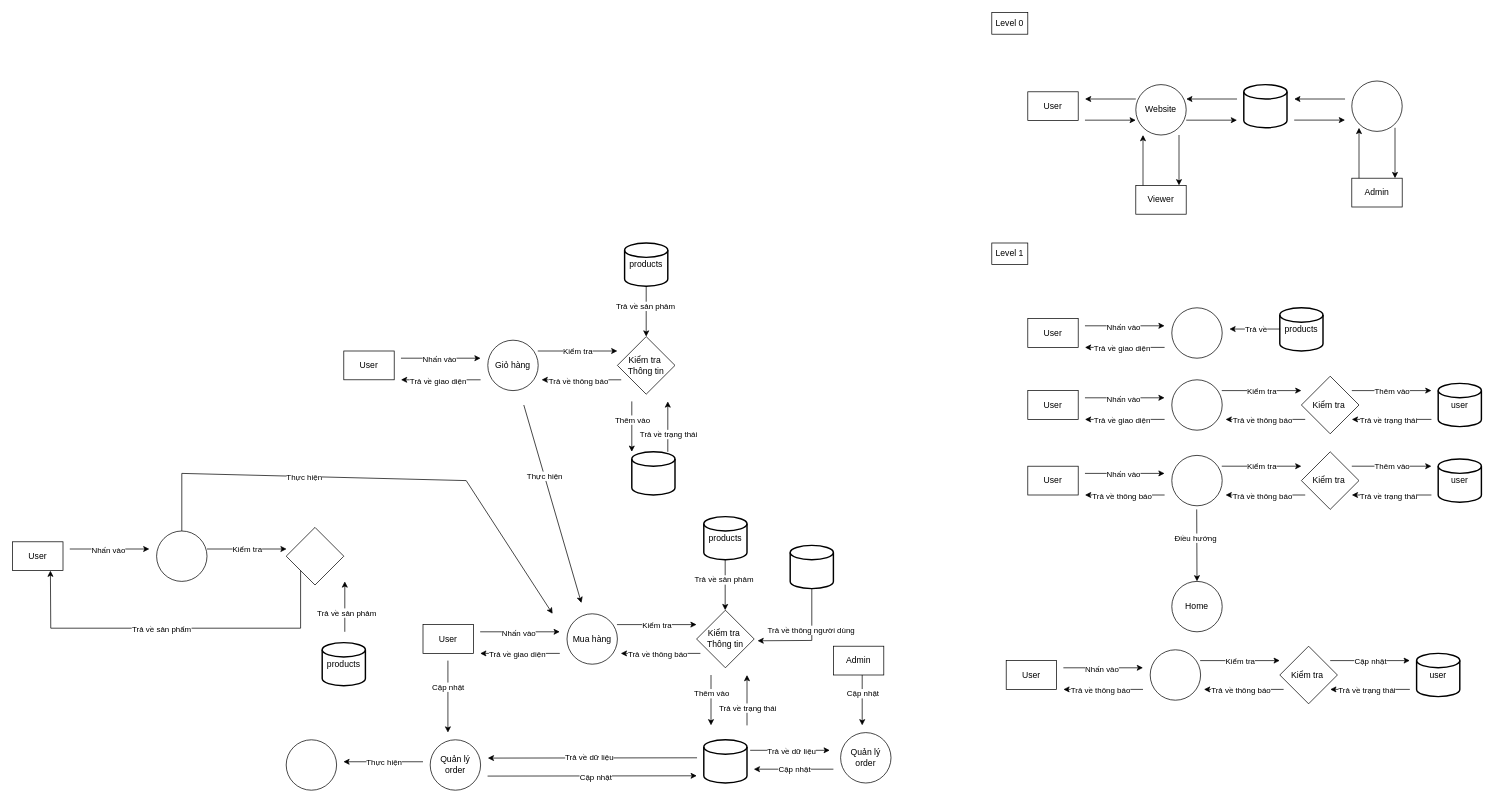
Some shapes in this 1495 by 803 pixel diagram are drawn without their labels. Each missing label, with the centre of its shape:
cart: point 653,473
Chi tiết sản phẩm: point 1196,332
Chỉnh sửa: point 1175,674
Dashboard: point 1376,105
Database: point 1265,106
order: point 725,761
Tìm kiếm: point 181,555
users: point 811,566
Xử lý logic: point 314,556
Đánh giá: point 311,764
Đăng ký: point 1196,404
Đăng nhập: point 1196,480
